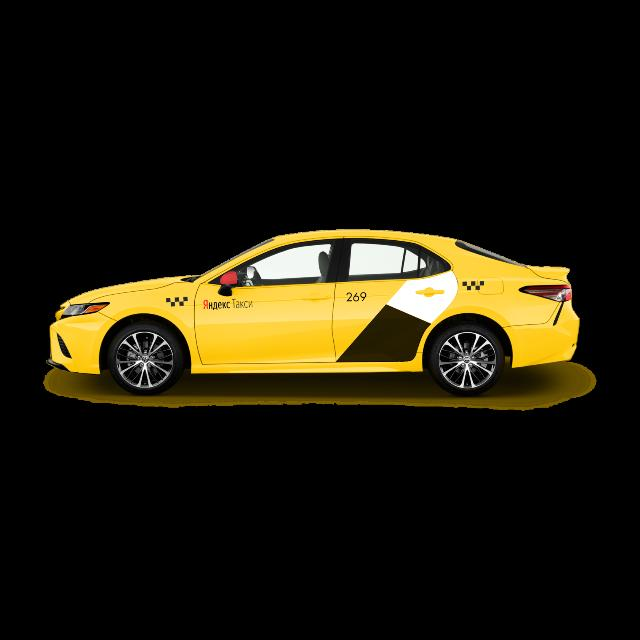taxi: (47, 229, 581, 399)
